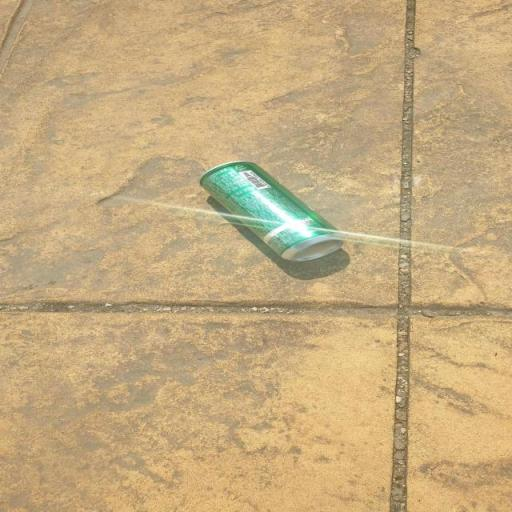metal: (183, 155, 362, 282)
